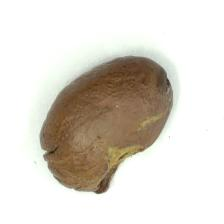NG: (94, 141, 146, 193)
